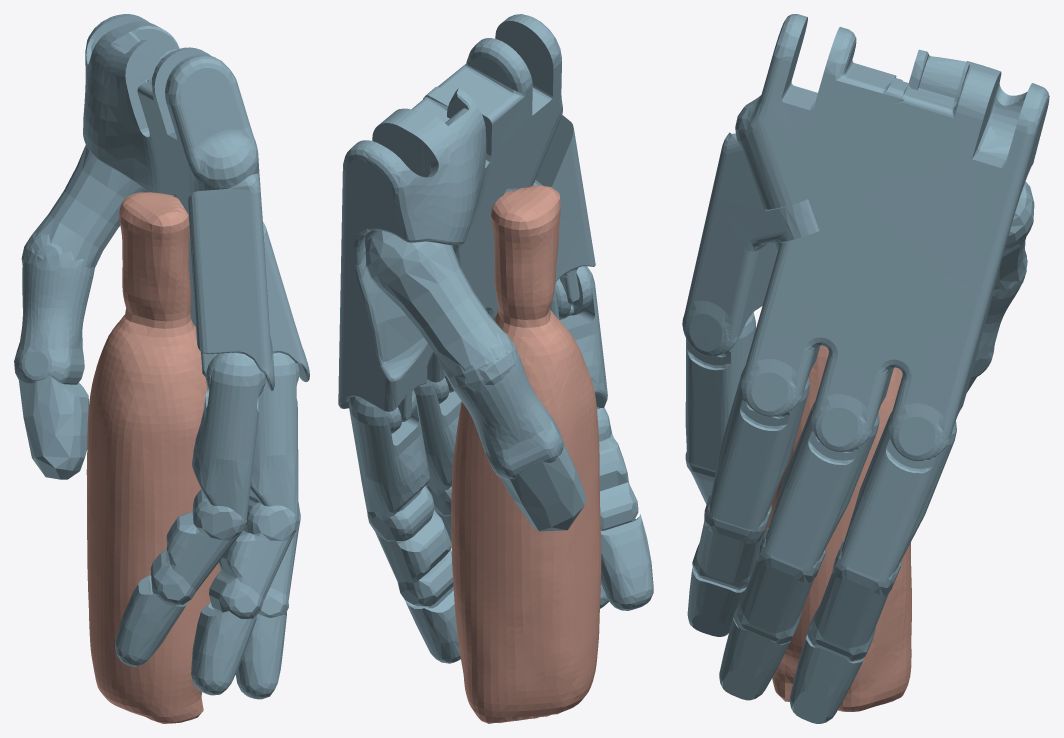
The model's file is 5_joint.glb.
The picture shows the model from 3 angles, left to right: view 1: azimuth 30°, elevation 25°; view 2: azimuth 150°, elevation 25°; view 3: azimuth 270°, elevation 25°; orthographic projection. The views are drawn at different scales.
Parts seen in each view (by area): view 1: world; view 2: world; view 3: world.
Boxes of the visible parts, box(x1,y1,x2,y2) form: world: box(14, 14, 309, 723); world: box(338, 14, 653, 723); world: box(682, 14, 1049, 723).
Size of the model in its own units: 0.5197 by 1.43 by 0.6922.
